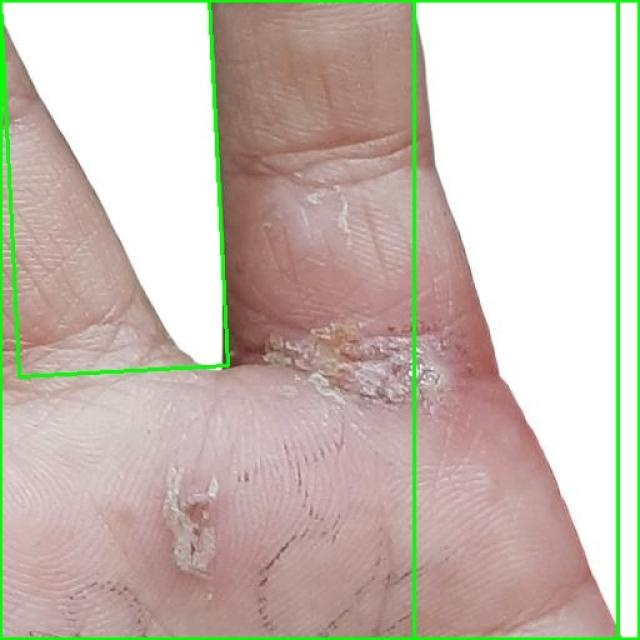Scabies: (0, 0, 618, 639), (414, 0, 639, 639), (0, 0, 229, 377)
